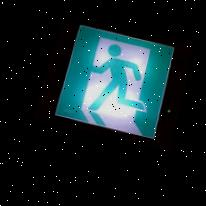emergency_exit: (54, 23, 175, 140)
